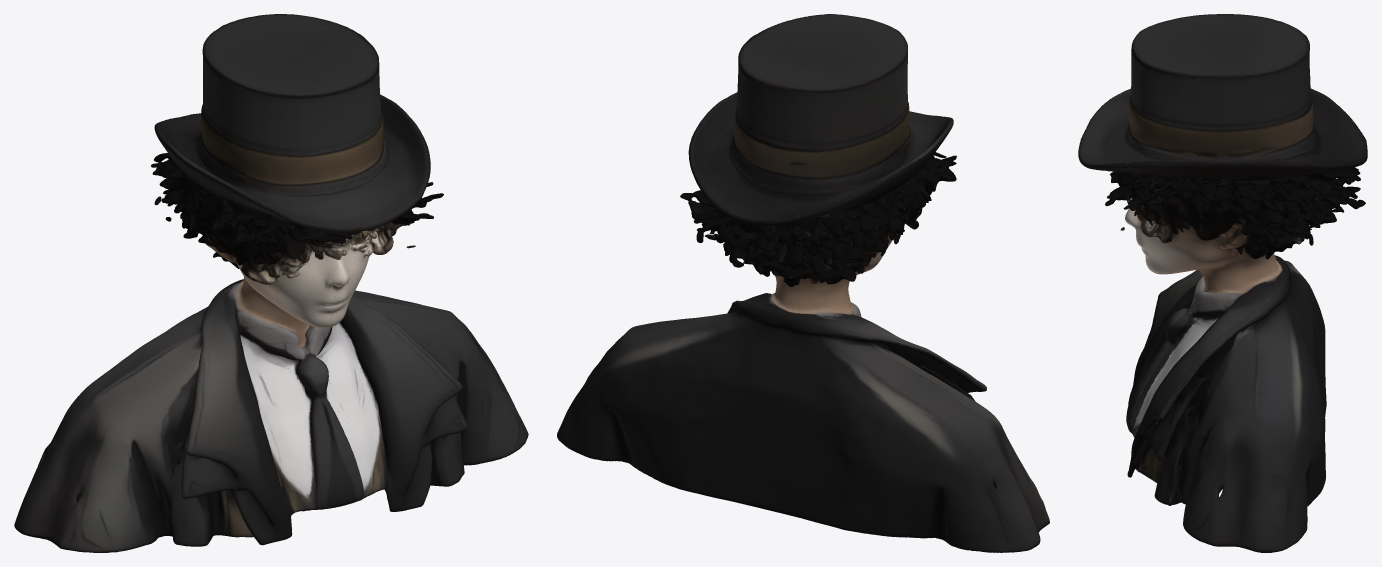
File: poet.glb
3 views of the same model, side by side, from view 1: azimuth 30°, elevation 25°; view 2: azimuth 150°, elevation 25°; view 3: azimuth 270°, elevation 25° (orthographic). The views are drawn at different scales.
Visible parts, largest first — view 1: world; view 2: world; view 3: world.
Part boxes in pixels (box(x1,y1,x2,y2)): world: box(14, 14, 528, 552); world: box(557, 14, 1049, 552); world: box(1078, 14, 1367, 552).
Size of the model in its own units: 1 by 0.8439 by 0.5555.
1 material, 1 textured.
